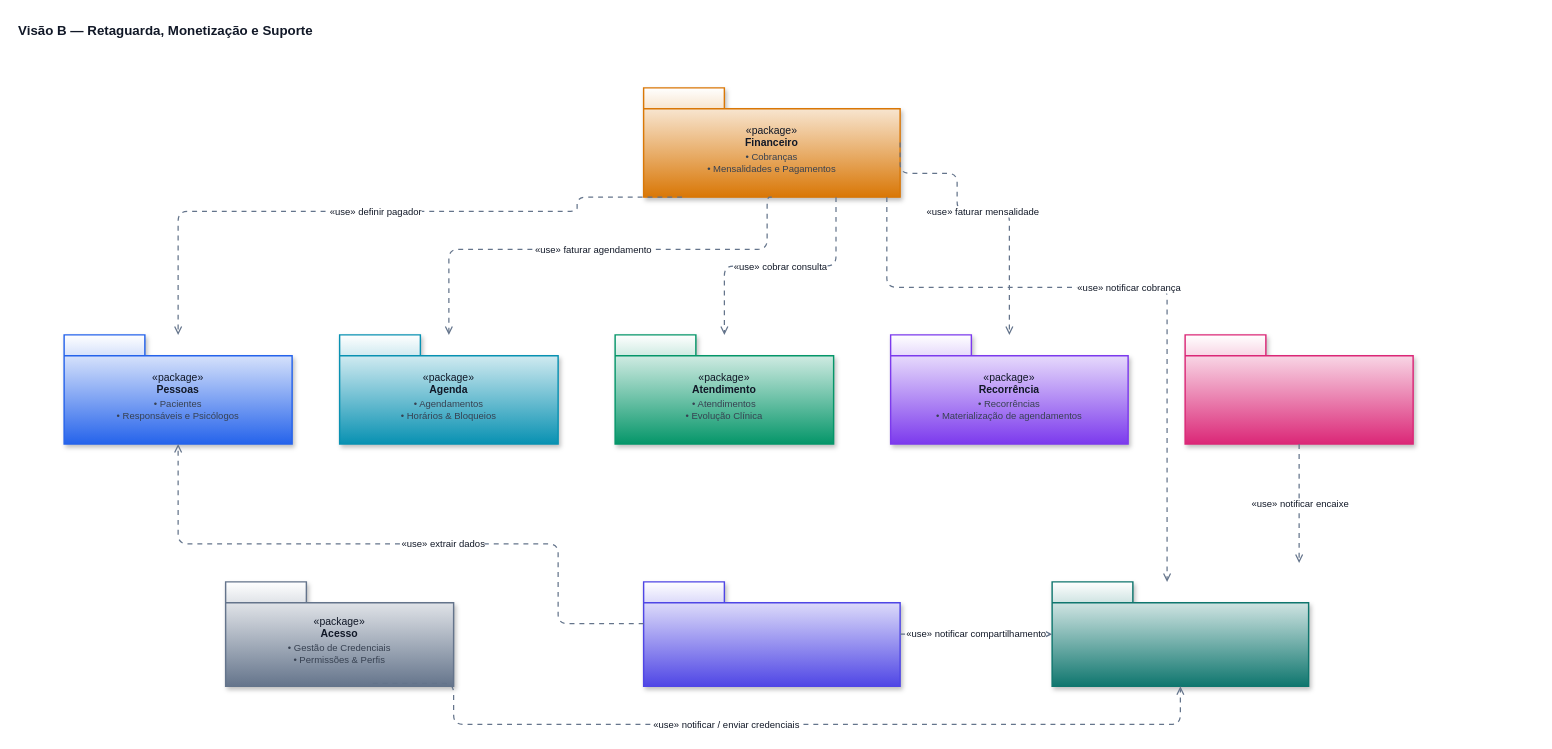
Some shapes in this 1552 by 749 pixel diagram are drawn without their labels. The shapes that lost their labels are listed below. From the top down, each one's centre as x and y in pixels, then its label:
pixel 1299 390: «package» Lista de Espera • Inscrições • Ofertas de Encaixe
pixel 772 635: «package» Documentos • Emissão e compartilhamento de documentos
pixel 1181 635: «package» Comunicação • Notificações (serviço externo)
